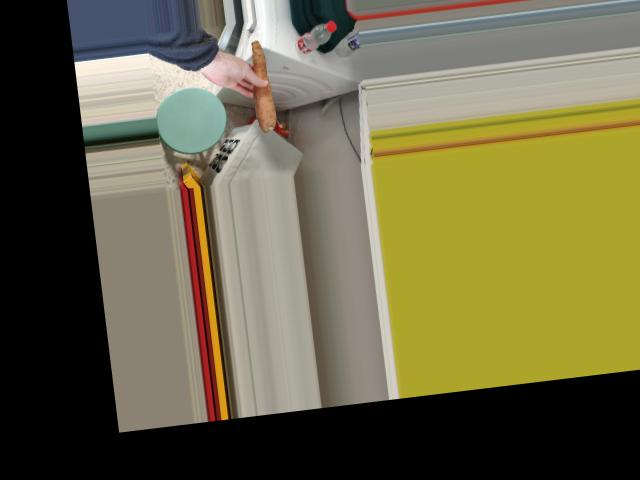sweet_potato: (239, 38, 279, 131)
